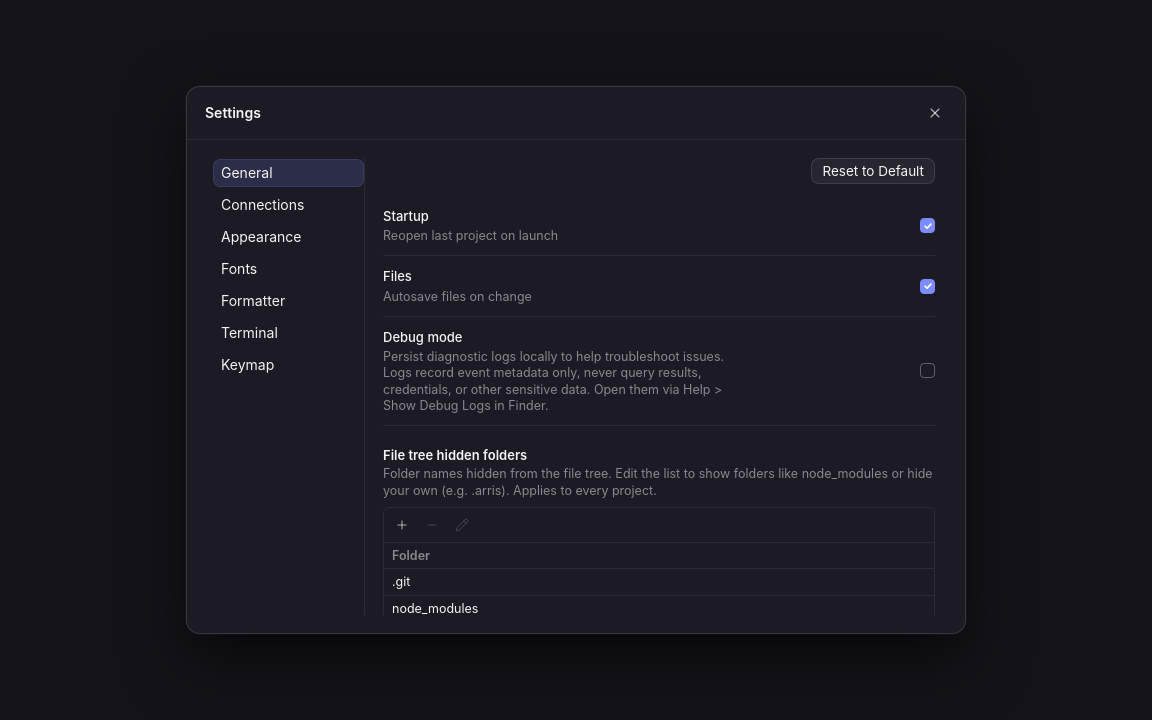
Test: SettingsView General pane — file tree skip dirs › adds a typed directory through the add toolbar button
Click the button with test id "file-tree-skip-dirs-add" at [402, 525], box [388,511,416,539]
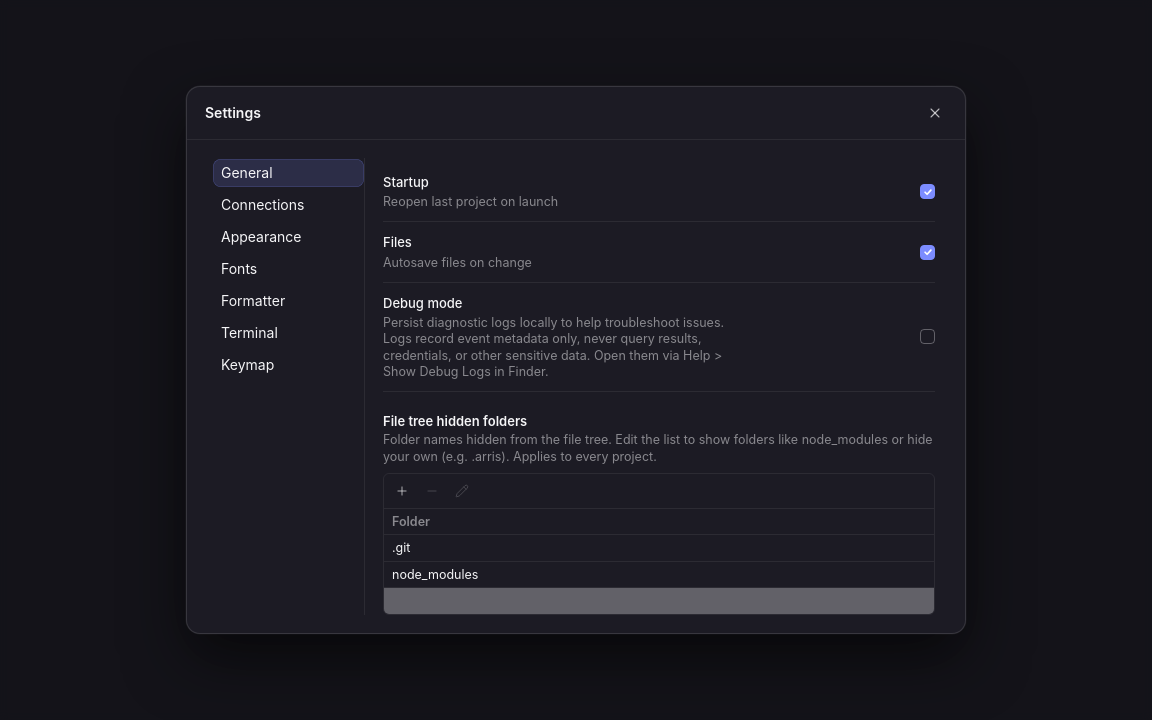
Type "dist" into the field with test id "file-tree-skip-dirs-input-name" at [659, 601], box [384,588,934,614]
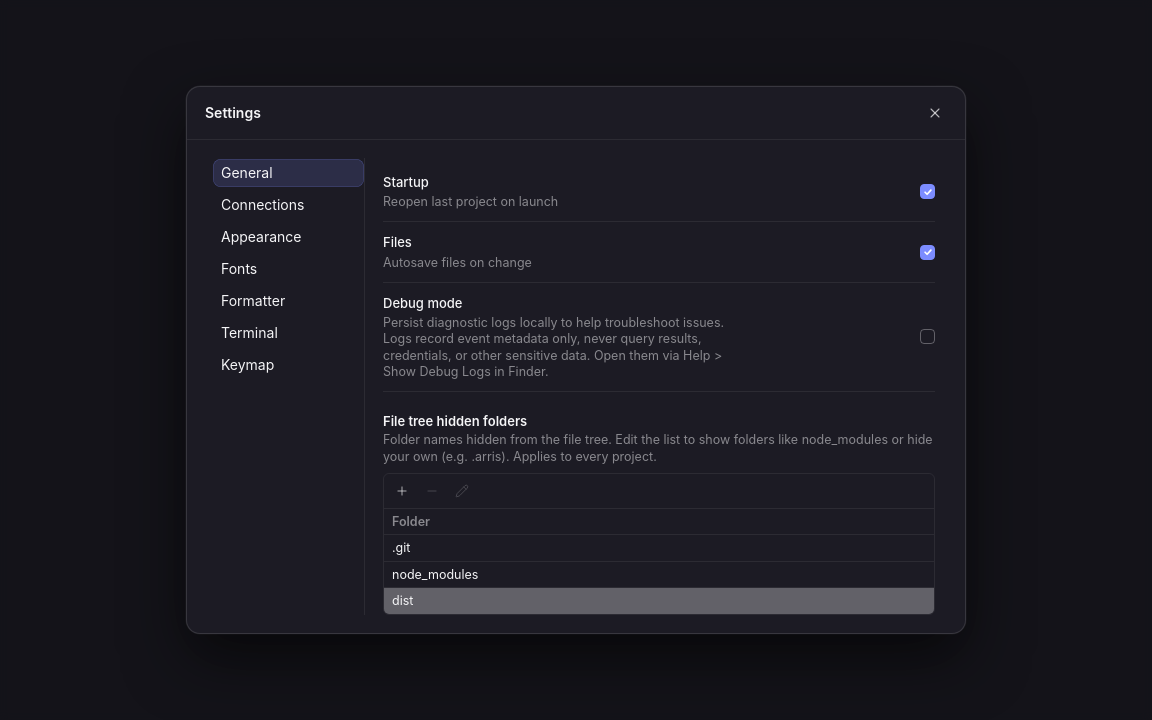
Press Enter in the field with test id "file-tree-skip-dirs-input-name", box [384,588,934,614]
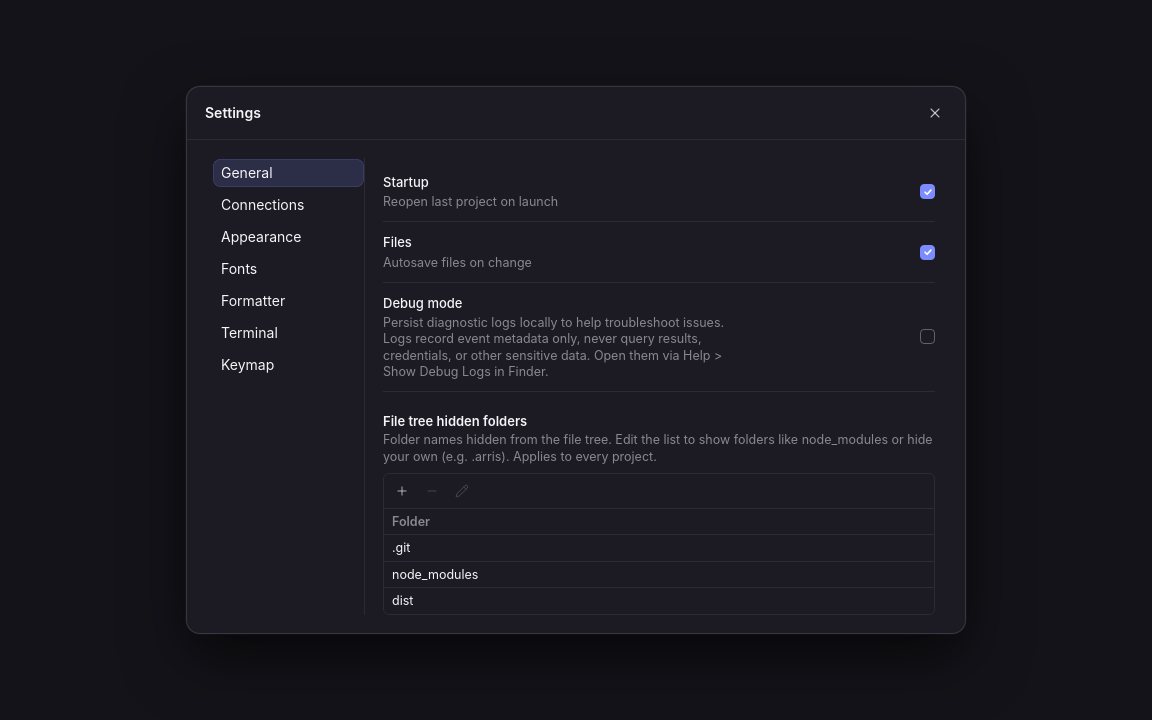
Check: the text "dist" is shown, box [392,593,413,608]
